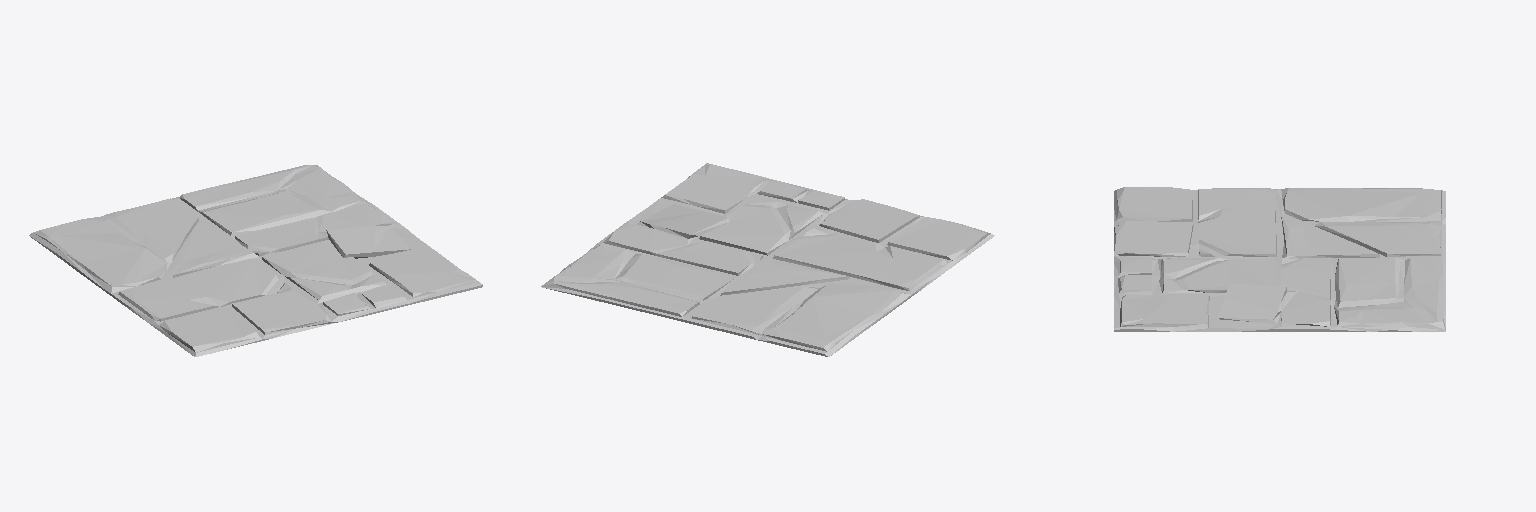
File: smenvtile01.obj
3 views of the same model, side by side, from view 1: azimuth 30°, elevation 25°; view 2: azimuth 150°, elevation 25°; view 3: azimuth 270°, elevation 25° (orthographic).
Visible parts, largest first — view 1: SM_Env_Tiles_01_Mesh; view 2: SM_Env_Tiles_01_Mesh; view 3: SM_Env_Tiles_01_Mesh.
Boxes of the visible parts, x1=… form: SM_Env_Tiles_01_Mesh: x1=29, y1=165, x2=482, y2=356; SM_Env_Tiles_01_Mesh: x1=541, y1=163, x2=994, y2=356; SM_Env_Tiles_01_Mesh: x1=1114, y1=187, x2=1445, y2=331.
Size of the model in its own units: 5 by 0.1856 by 5.